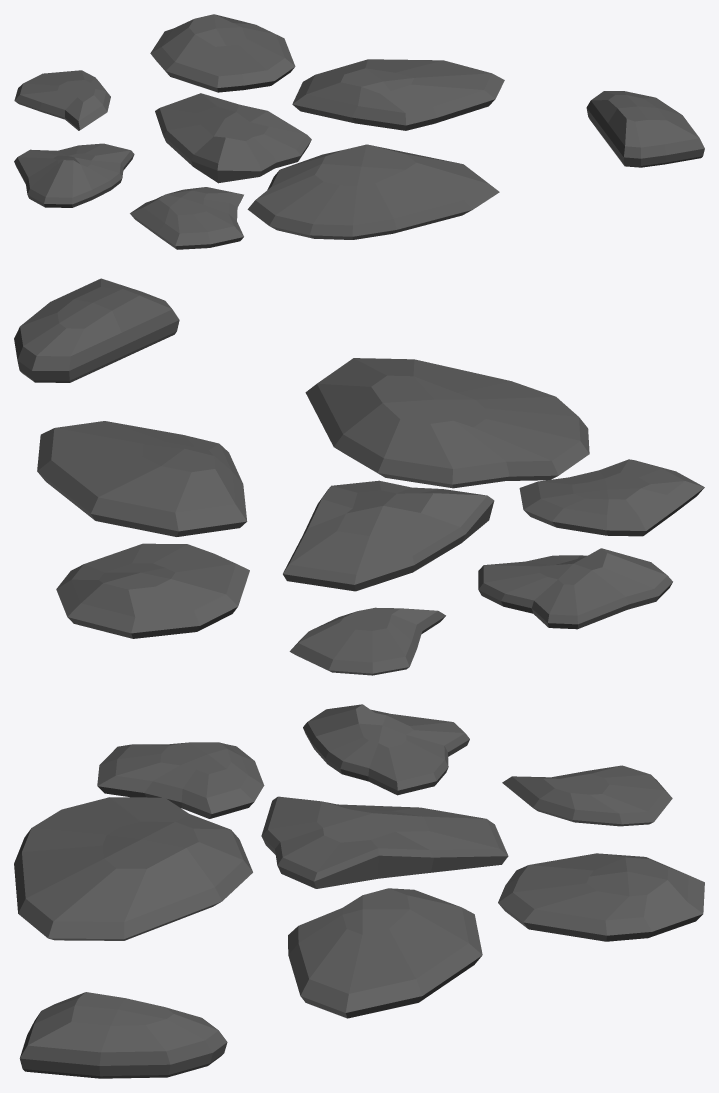
File: palmrock6.glb
The picture shows the model from 3 angles, top to bottom: view 1: azimuth 30°, elevation 25°; view 2: azimuth 150°, elevation 25°; view 3: azimuth 270°, elevation 25°; orthographic projection. The views are drawn at different scales.
Parts seen in each view (by area): view 1: PalmRock7-col; view 2: PalmRock7-col; view 3: PalmRock7-col.
Part boxes in pixels (x1,y1,x2,y2): PalmRock7-col: (14, 14, 704, 249); PalmRock7-col: (14, 278, 704, 675); PalmRock7-col: (14, 704, 704, 1078).
Bounding box in the file's own units: 1.25 × 0.076 × 1.
1 material, 1 textured.
